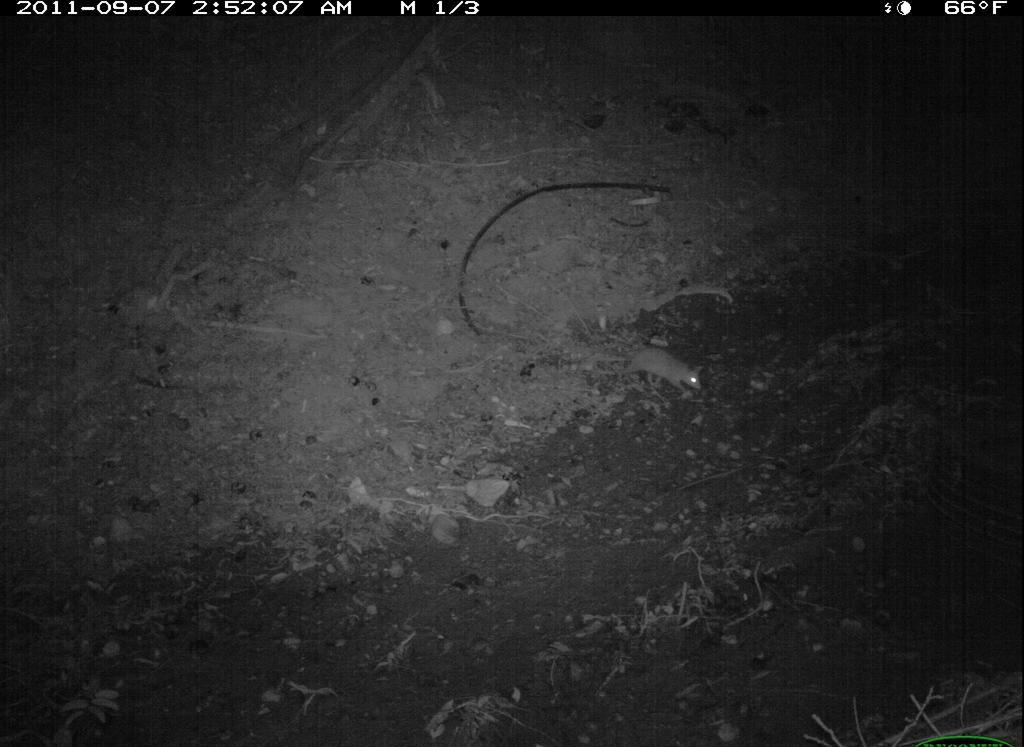opossum: (615, 333, 712, 408)
